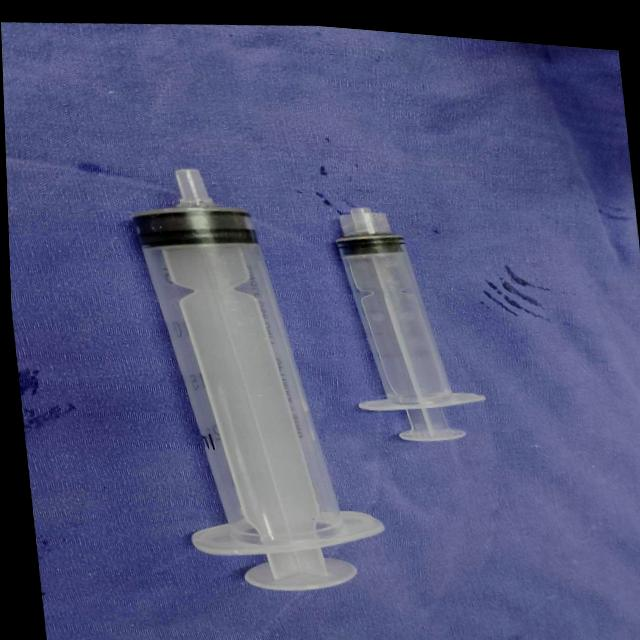Infectious: (130, 166, 384, 591), (333, 205, 485, 442)
